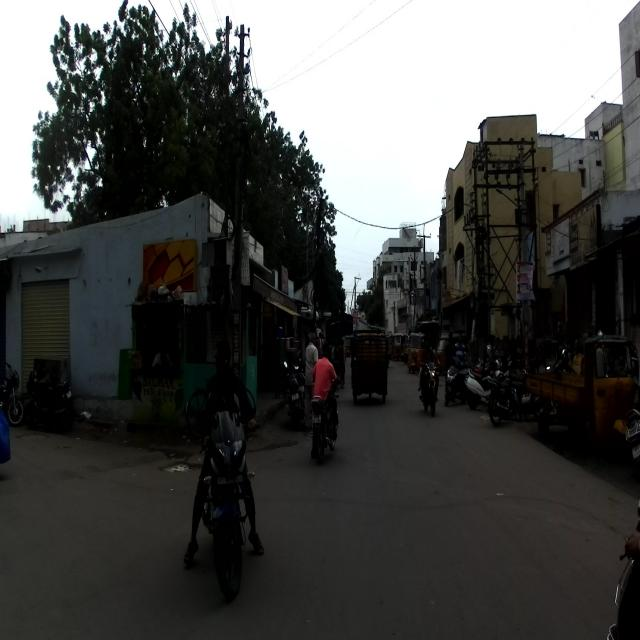motorcycle: (197, 391, 259, 599), (309, 378, 342, 465), (482, 359, 522, 425)
truck: (523, 331, 638, 462)
